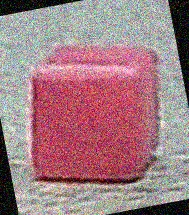red_cube: (18, 34, 167, 190)
